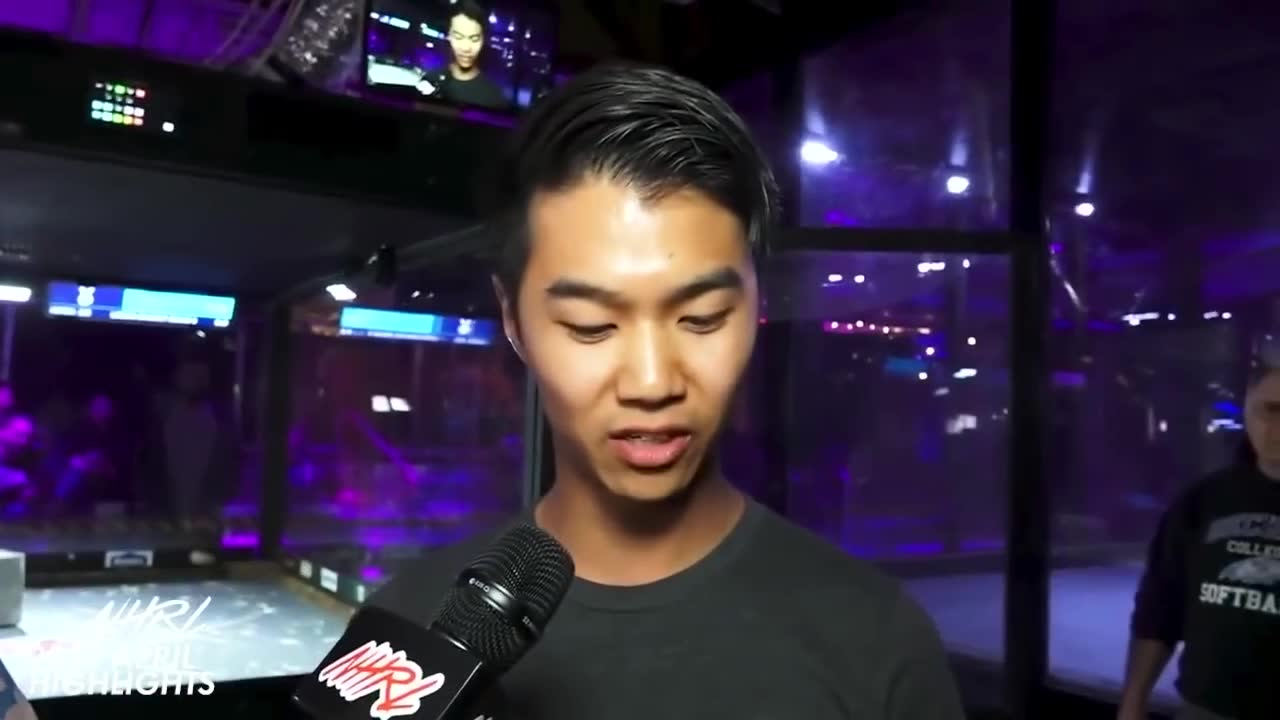housebot: (0, 541, 28, 630)
